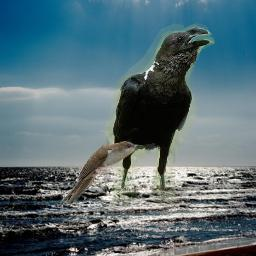Crow: (104, 23, 215, 205)
Cuckoo: (60, 141, 144, 204)
